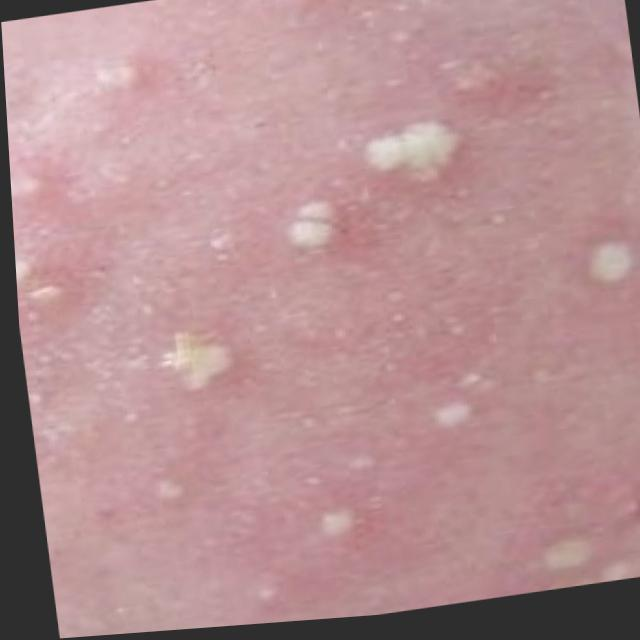pustule: (83, 77, 516, 435), (250, 355, 552, 578), (470, 499, 640, 604), (517, 200, 640, 333)
